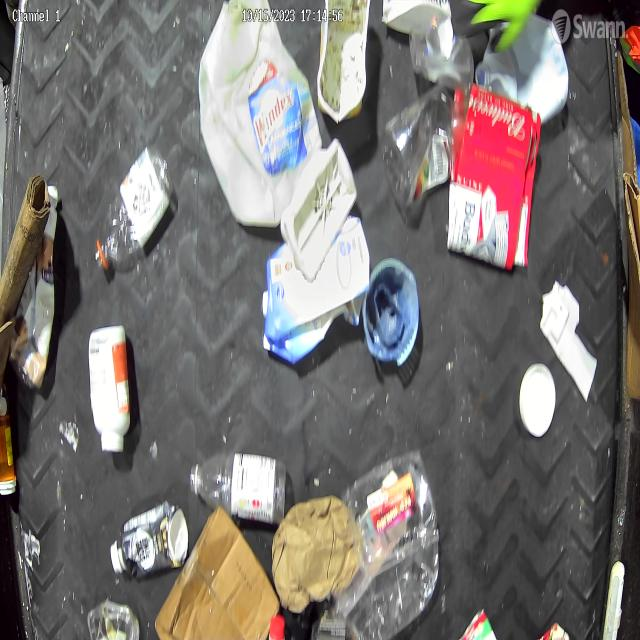milk_jug: (197, 0, 319, 228), (478, 12, 570, 130)
plastic_bottle: (96, 147, 175, 276), (189, 450, 292, 522)
